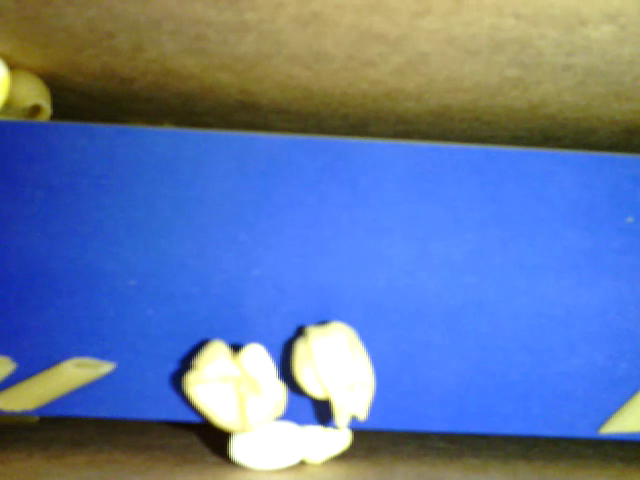penne: (2, 355, 119, 411), (599, 394, 636, 435)
shell: (3, 65, 52, 124)
tortellini: (289, 322, 377, 425)
